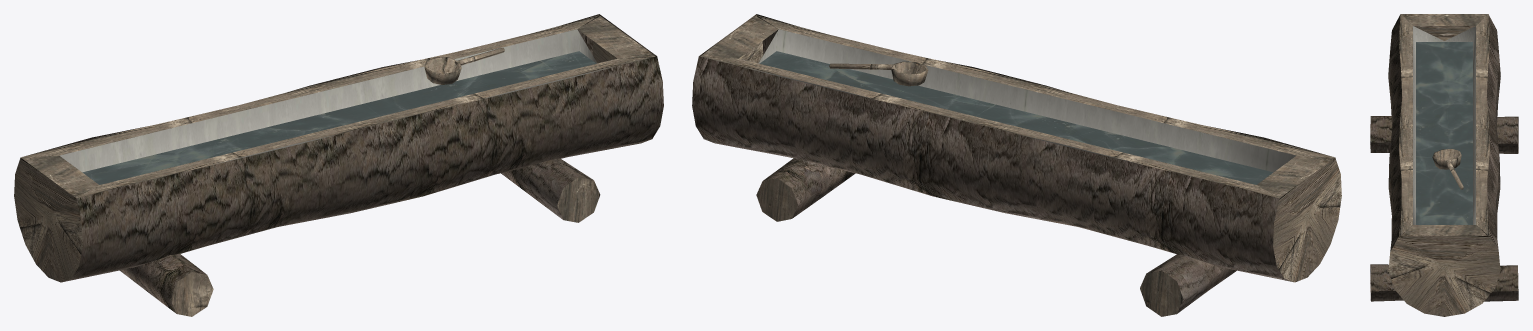
File: kit_sf_brine_trough_p.glb
The picture shows the model from 3 angles, left to right: view 1: azimuth 30°, elevation 25°; view 2: azimuth 150°, elevation 25°; view 3: azimuth 270°, elevation 25°; orthographic projection. The views are drawn at different scales.
Visible parts, largest first — view 1: kit_sf_brine_trough_p; view 2: kit_sf_brine_trough_p; view 3: kit_sf_brine_trough_p.
Boxes of the visible parts, x1,y1,x2,y2 form: kit_sf_brine_trough_p: (14,14,663,316); kit_sf_brine_trough_p: (692,14,1341,316); kit_sf_brine_trough_p: (1370,14,1518,316).
Size of the model in its own units: 3 by 0.7138 by 0.8449.
1 material, 1 textured.
